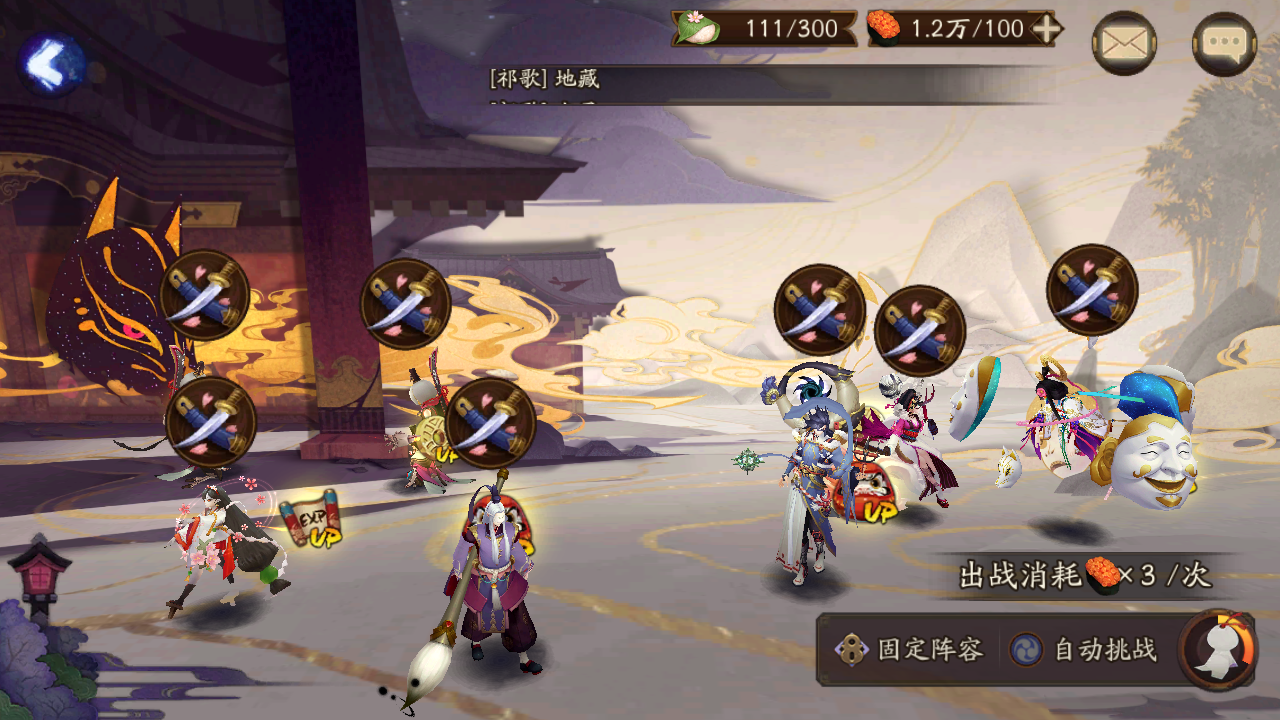experience: (273, 488, 352, 554)
material: (832, 458, 905, 527)
money: (411, 412, 462, 466)
